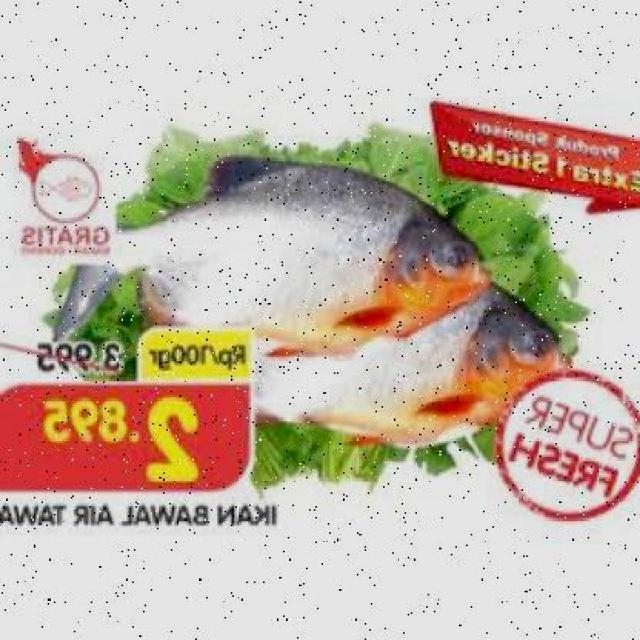ikan-pacu: (63, 156, 488, 355), (258, 284, 564, 446)
